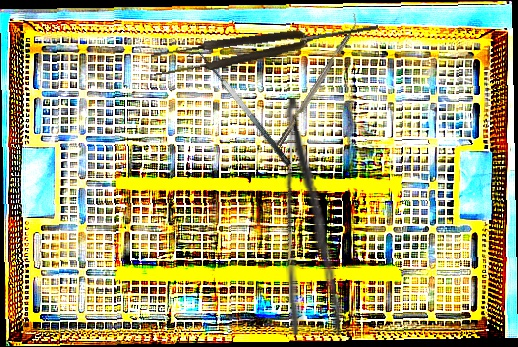Chopper: (270, 12, 364, 148)
Dressing Forceps: (282, 97, 343, 336)
Spatula Surgical: (187, 43, 293, 175)
Tissue Forceps: (150, 14, 381, 79)
